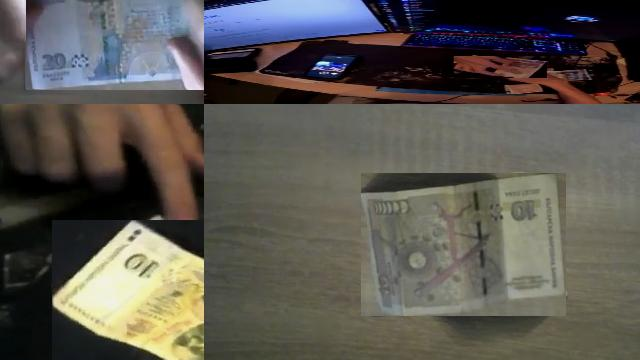10leva: (361, 173, 566, 316), (52, 220, 204, 360)
20leva: (26, 0, 189, 90)
50leva: (454, 55, 547, 78)
